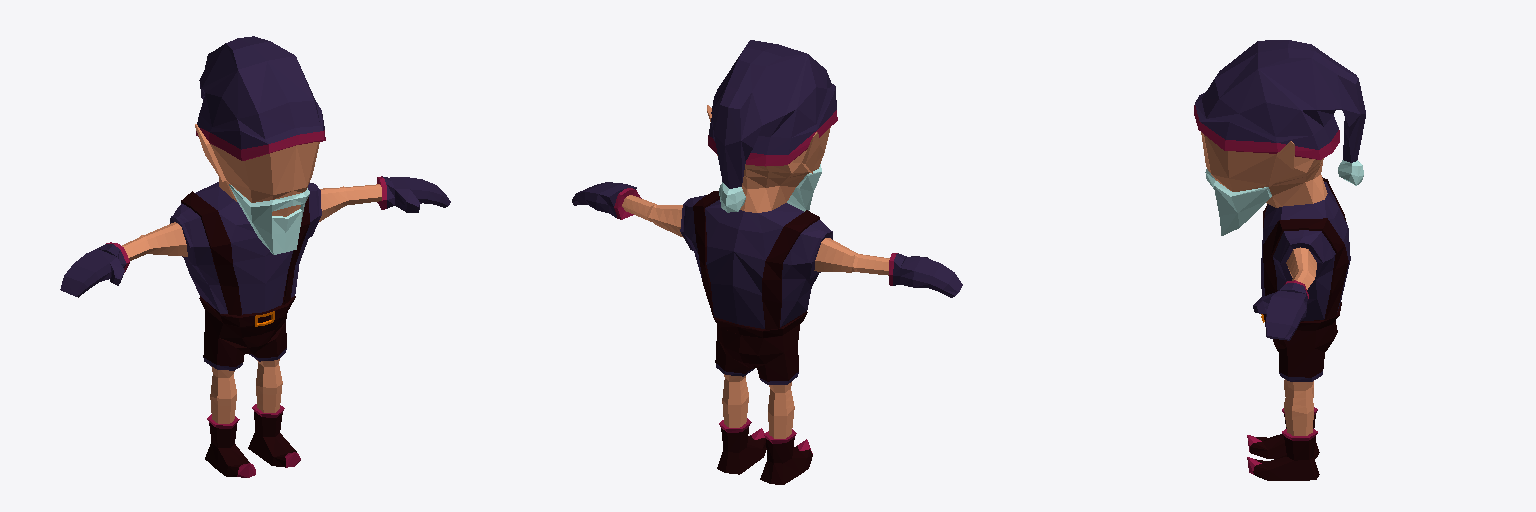
The model's file is char_ELF_5.obj.
3 views of the same model, side by side, from view 1: azimuth 30°, elevation 25°; view 2: azimuth 150°, elevation 25°; view 3: azimuth 270°, elevation 25° (orthographic).
Visible parts, largest first — view 1: Cube; view 2: Cube; view 3: Cube.
Boxes of the visible parts, <box> form: Cube: <box>60,36,450,477</box>; Cube: <box>572,40,962,484</box>; Cube: <box>1194,40,1365,480</box>.
Size of the model in its own units: 2.88 by 2.96 by 1.11.